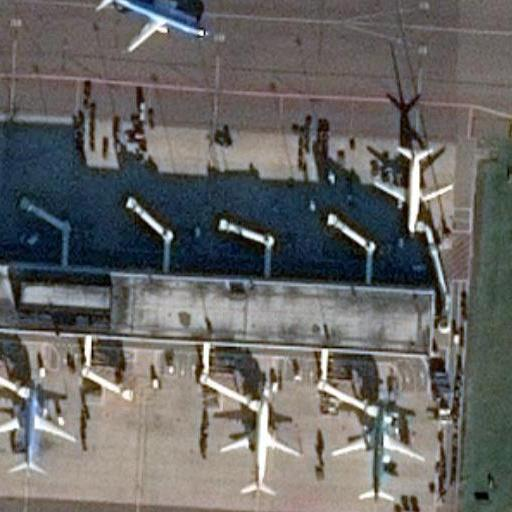Aircraft: (329, 399, 425, 503), (216, 391, 299, 495), (369, 137, 453, 232), (0, 379, 76, 476), (92, 0, 209, 53)
